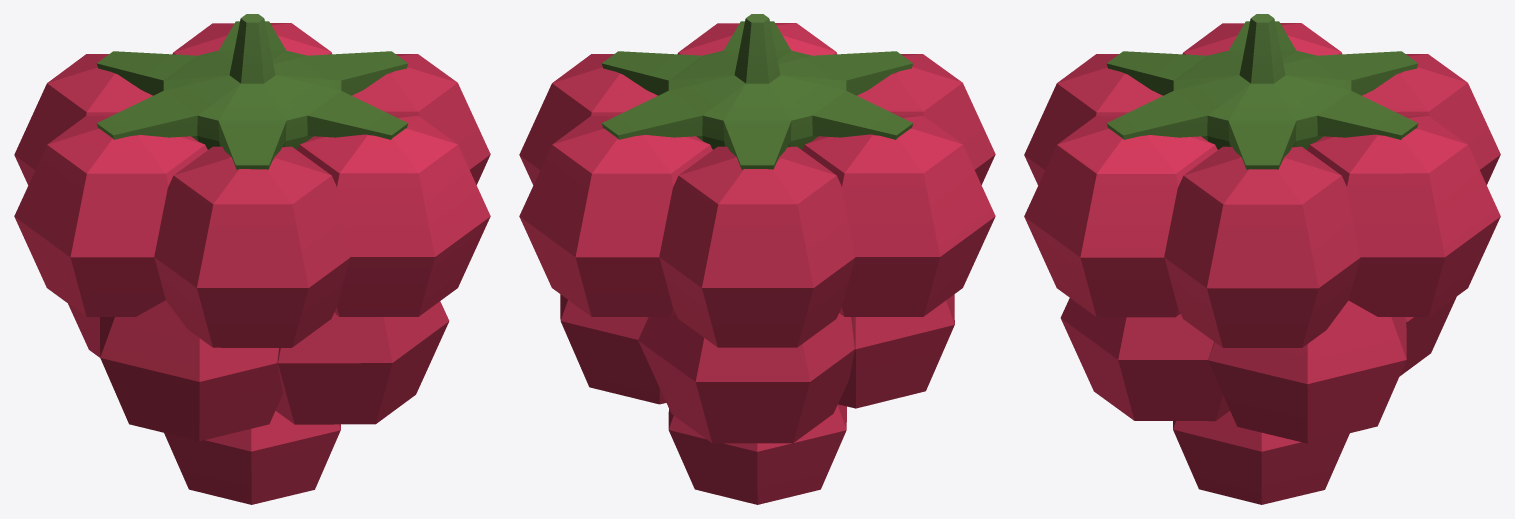
File: Raspberry.fbx
The picture shows the model from 3 angles, left to right: view 1: azimuth 30°, elevation 25°; view 2: azimuth 150°, elevation 25°; view 3: azimuth 270°, elevation 25°; orthographic projection.
Parts seen in each view (by area): view 1: Raspberry; view 2: Raspberry; view 3: Raspberry.
Part boxes in pixels (x1,y1,x2,y2): Raspberry: (14, 14, 490, 504); Raspberry: (519, 14, 995, 504); Raspberry: (1024, 14, 1500, 504).
Size of the model in its own units: 11.09 by 11.84 by 10.87.
